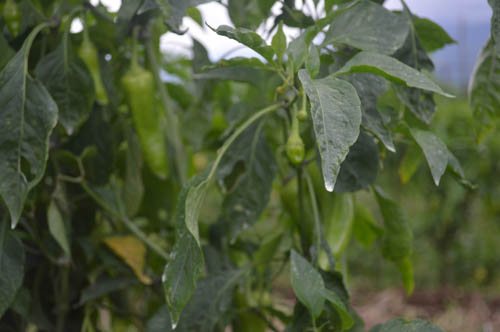ChiliPepper: (123, 71, 168, 177), (319, 186, 357, 279), (277, 176, 309, 240), (75, 43, 107, 103)
